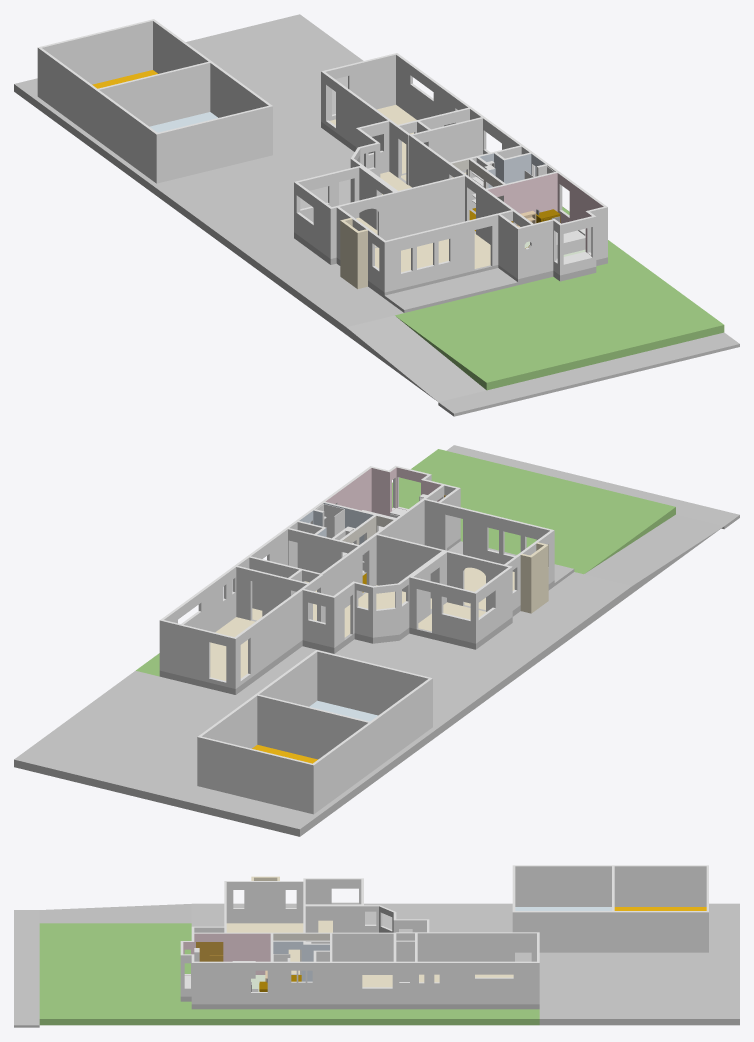
The model's file is dixon_house_v19.gltf.
3 views of the same model, one above another, from view 1: azimuth 30°, elevation 25°; view 2: azimuth 150°, elevation 25°; view 3: azimuth 270°, elevation 25° (orthographic). The views are drawn at different scales.
Visible parts, largest first — view 1: i_walls, i_backyard, i_garage_walls, i_lawn, i_driveway, i_sidewalk, r_patio, i_foundation, i_chimney, r_living_room; view 2: i_walls, i_backyard, i_garage_walls, i_lawn, i_driveway, i_sidewalk, i_foundation, i_chimney, r_master_bedroom, r_kitchen; view 3: i_walls, i_lawn, i_backyard, i_garage_walls, i_driveway, i_sidewalk, i_foundation, r_living_room, f_closet_storage, r_den, r_garage, r_studio.
Part boxes in pixels (box(x1,y1,x2,y2)): i_walls: box(294, 53, 607, 292); i_backyard: box(14, 14, 363, 284); i_garage_walls: box(37, 19, 272, 183); i_lawn: box(395, 206, 724, 390); i_driveway: box(278, 263, 486, 402); i_sidewalk: box(438, 332, 739, 416); r_patio: box(384, 268, 517, 312); i_foundation: box(294, 122, 607, 298); i_chimney: box(340, 218, 367, 289); r_living_room: box(375, 233, 490, 272); i_walls: box(159, 465, 554, 688); i_backyard: box(14, 623, 564, 836); i_garage_walls: box(197, 650, 432, 814); i_lawn: box(136, 449, 675, 676); i_driveway: box(512, 514, 723, 642); i_sidewalk: box(446, 445, 739, 529); i_foundation: box(159, 538, 554, 694); i_chimney: box(520, 542, 548, 613); r_master_bedroom: box(210, 617, 255, 680); r_kitchen: box(344, 585, 431, 637); i_walls: box(180, 878, 539, 1004); i_lawn: box(39, 923, 539, 1025); i_backyard: box(364, 903, 739, 1025); i_garage_walls: box(512, 865, 708, 952); i_driveway: box(39, 903, 296, 924); i_sidewalk: box(14, 910, 39, 1027); i_foundation: box(180, 974, 539, 1009); r_living_room: box(226, 923, 303, 973); f_closet_storage: box(196, 942, 223, 961); r_den: box(362, 975, 392, 987); r_garage: box(515, 907, 611, 910); r_studio: box(614, 907, 706, 910).
Size of the model in its own units: 15.02 by 3.35 by 40.04.
